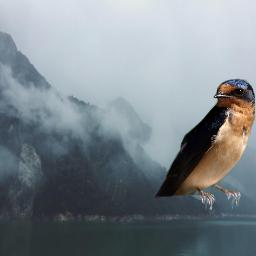Swallow: (153, 78, 255, 210)
